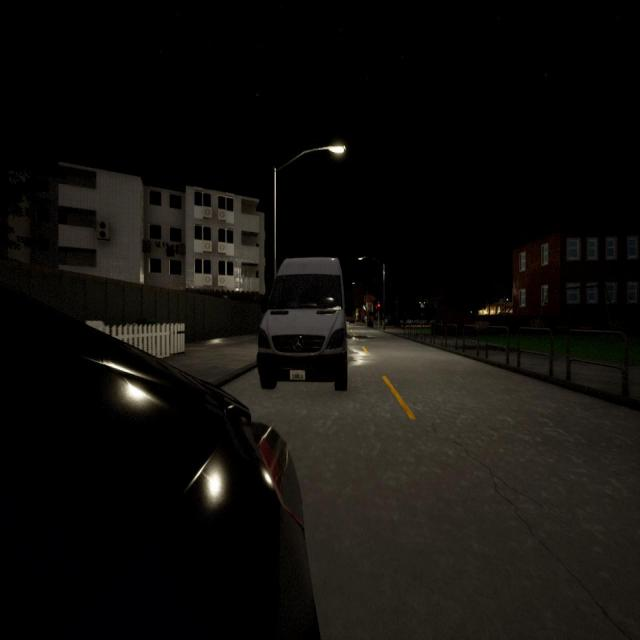Vehicle: (0, 295, 322, 640), (258, 258, 352, 392)
traffic_light: (378, 304, 380, 312)
